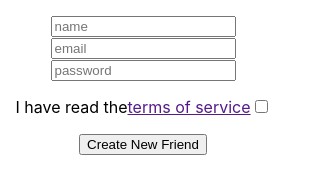
Testing Create New User Form › Ensure all expected input fields exist and operate correctly › all input fields must pass a specified schema before the submit button works › if tos is unchecked an error message appears
This screenshot has width=320, height=190.
Type "Dawson" into the field named "name". click: (144, 28)
box: x1=51 y1=17 x2=236 y2=38
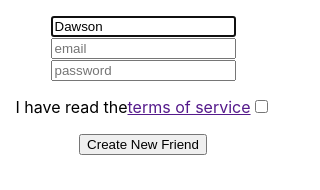
Type "dawsonreschke@gmail.com" into the field named "email". click: (144, 50)
box: x1=51 y1=39 x2=236 y2=60
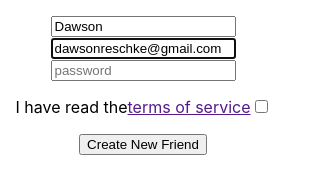
Type "123456" into the password field named "password". click: (144, 72)
box: x1=51 y1=61 x2=236 y2=82
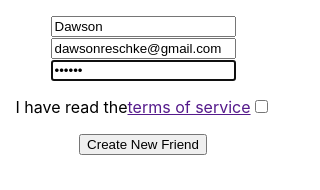
Click the button named "submitBtn". click: (143, 146)
box: x1=79 y1=135 x2=207 y2=156
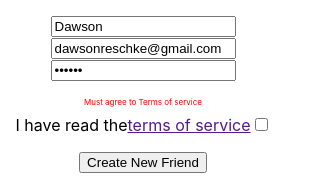
Expected: the text "Must agree to Terms of service" is shown, x1=84 y1=98 x2=202 y2=108
